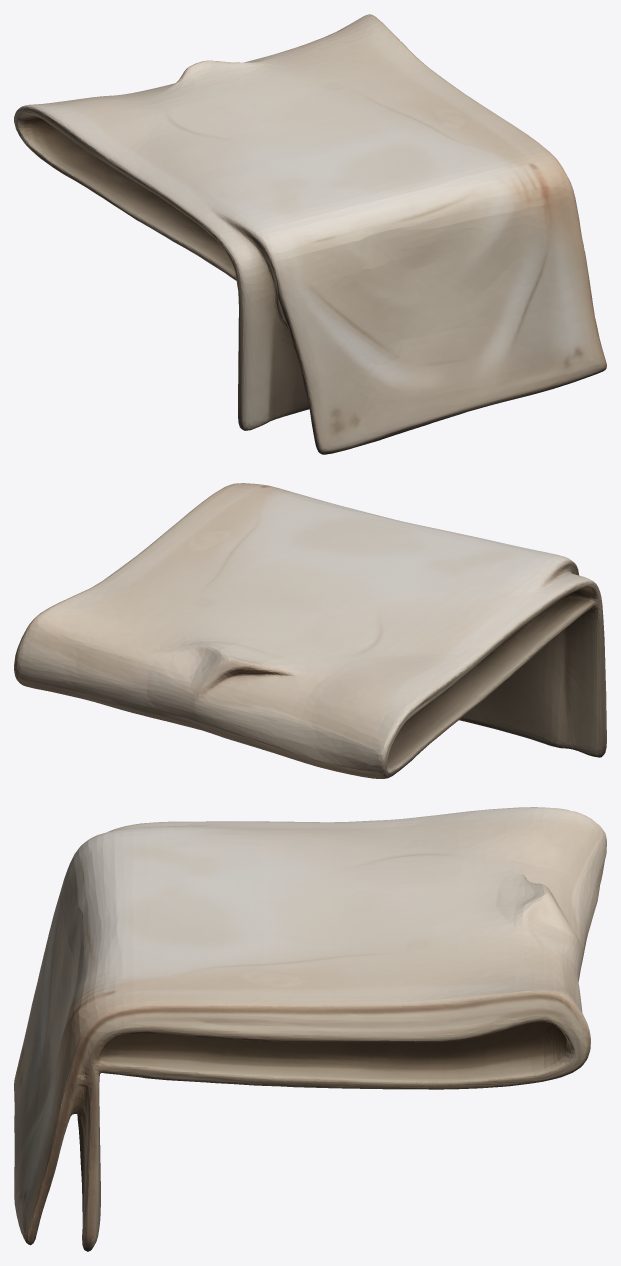
The model's file is CaiKhan.glb.
3 renders of one model, top to bottom at view 1: azimuth 30°, elevation 25°; view 2: azimuth 150°, elevation 25°; view 3: azimuth 270°, elevation 25°, orthographic. The views are drawn at different scales.
Visible parts, largest first — view 1: world; view 2: world; view 3: world.
Boxes of the visible parts, x1,y1,x2,y2 form: world: (14,14,606,454); world: (14,483,606,778); world: (14,807,606,1251).
Size of the model in its own units: 0.8608 by 0.4788 by 0.9983.
1 material, 1 textured.
